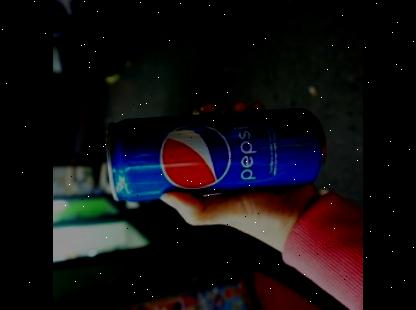Can: (106, 105, 326, 203)
